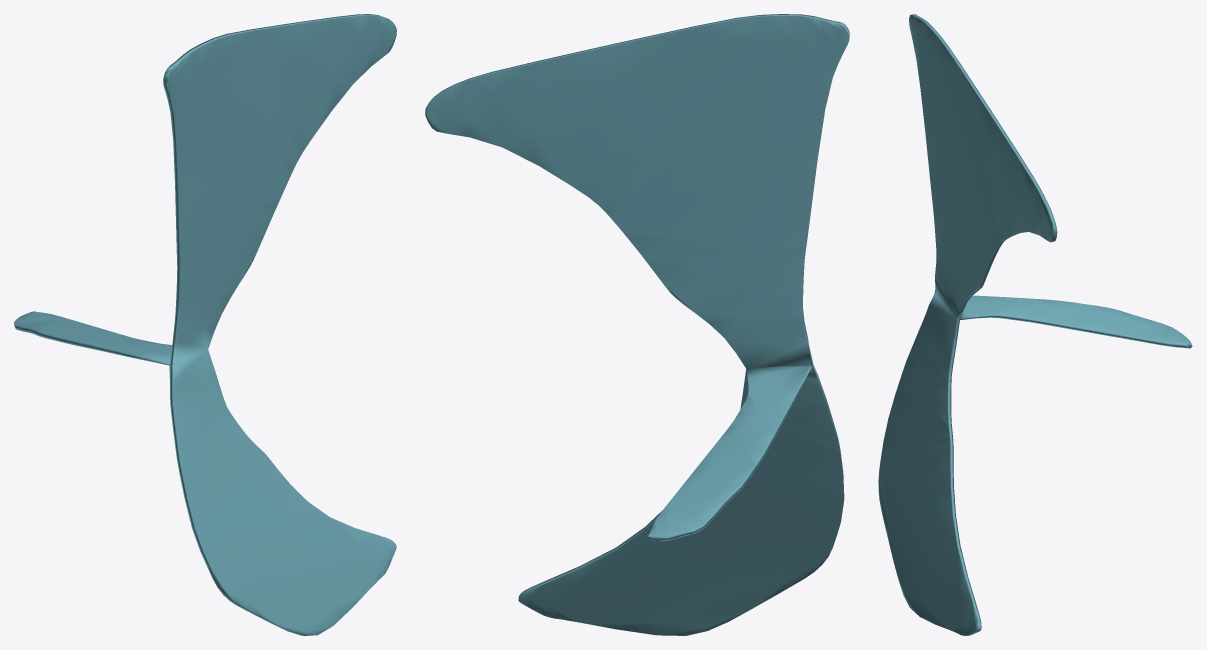
3 renders of one model, left to right at view 1: azimuth 30°, elevation 25°; view 2: azimuth 150°, elevation 25°; view 3: azimuth 270°, elevation 25°, orthographic. The views are drawn at different scales.
Parts seen in each view (by area): view 1: 左侧三放射软骨; view 2: 左侧三放射软骨; view 3: 左侧三放射软骨.
Part boxes in pixels (x1,y1,x2,y2): 左侧三放射软骨: [14, 14, 396, 635]; 左侧三放射软骨: [425, 14, 849, 635]; 左侧三放射软骨: [878, 14, 1192, 635].
Bounding box in the file's own units: 0.0557 × 0.0999 × 0.053.
